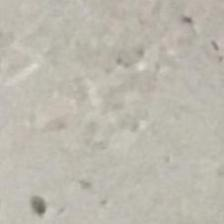Non_Crack: (18, 20, 224, 202)
